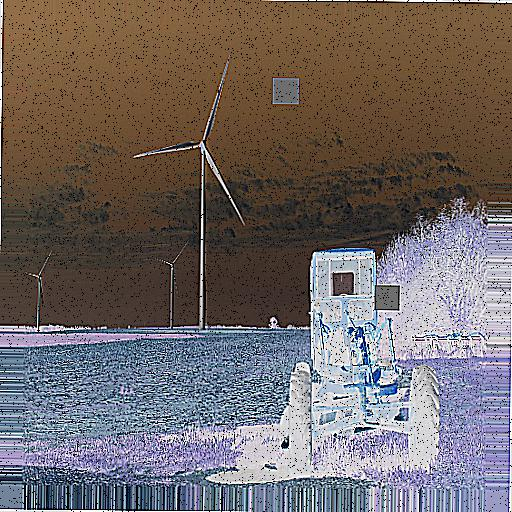wind turbine: (131, 54, 246, 321), (146, 241, 190, 330), (20, 248, 53, 332)
